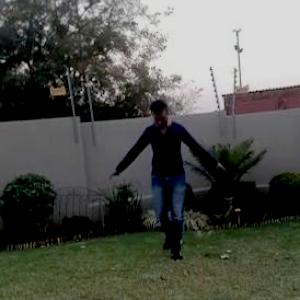land: (100, 103, 223, 266)
